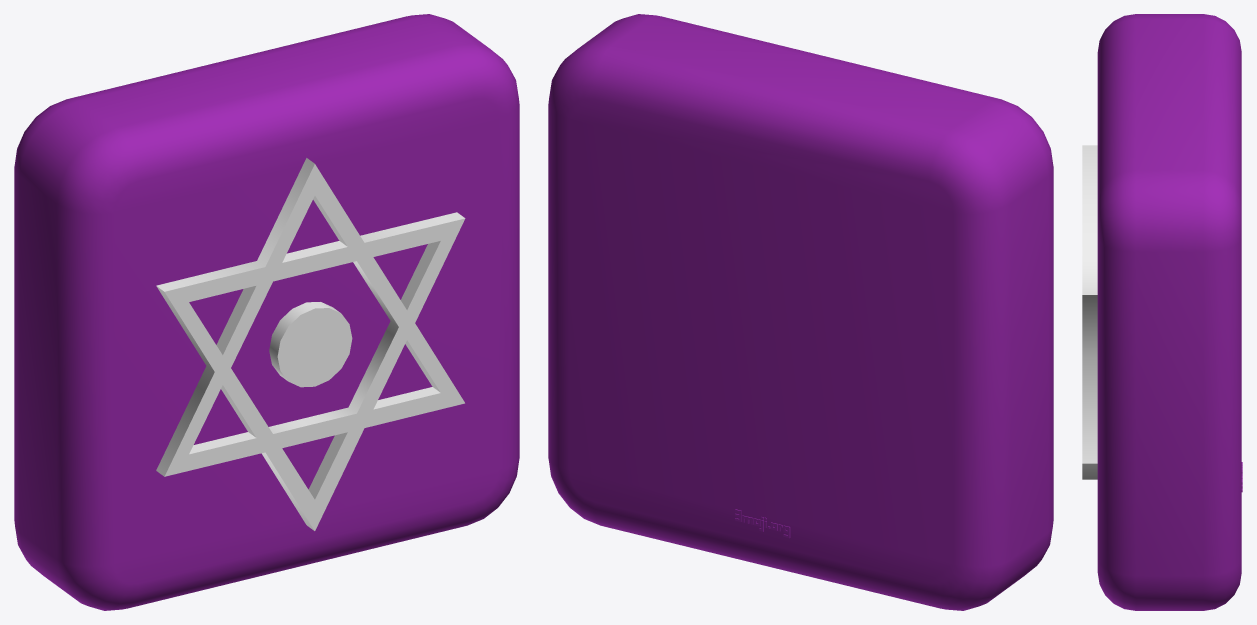
The model's file is dotted_six_pointed_star.fbx.
3 views of the same model, side by side, from view 1: azimuth 30°, elevation 25°; view 2: azimuth 150°, elevation 25°; view 3: azimuth 270°, elevation 25° (orthographic). The views are drawn at different scales.
Visible parts, largest first — view 1: Cube.6397; view 2: Cube.6397; view 3: Cube.6397.
Part boxes in pixels (x1=…): Cube.6397: x1=14, y1=14, x2=519, y2=610; Cube.6397: x1=548, y1=14, x2=1053, y2=610; Cube.6397: x1=1082, y1=14, x2=1242, y2=610.
Bounding box in the file's own units: 220 × 220 × 73.37.
Materials: 1 (1 with a texture image).
